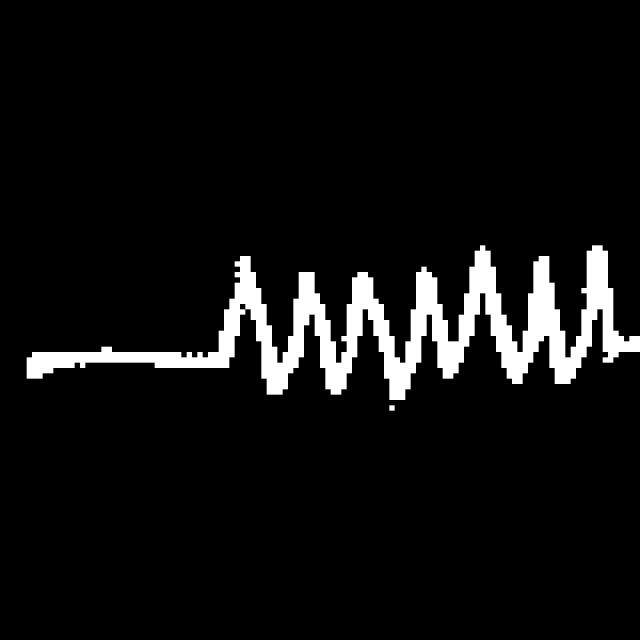resistor: (197, 205, 639, 455)
